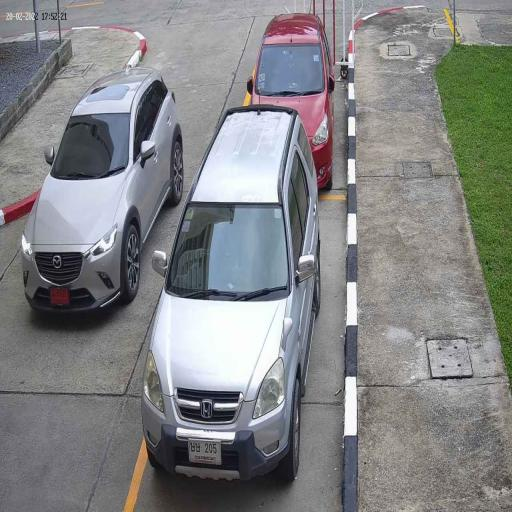car: (143, 102, 321, 488), (19, 68, 185, 316), (250, 11, 336, 192)
